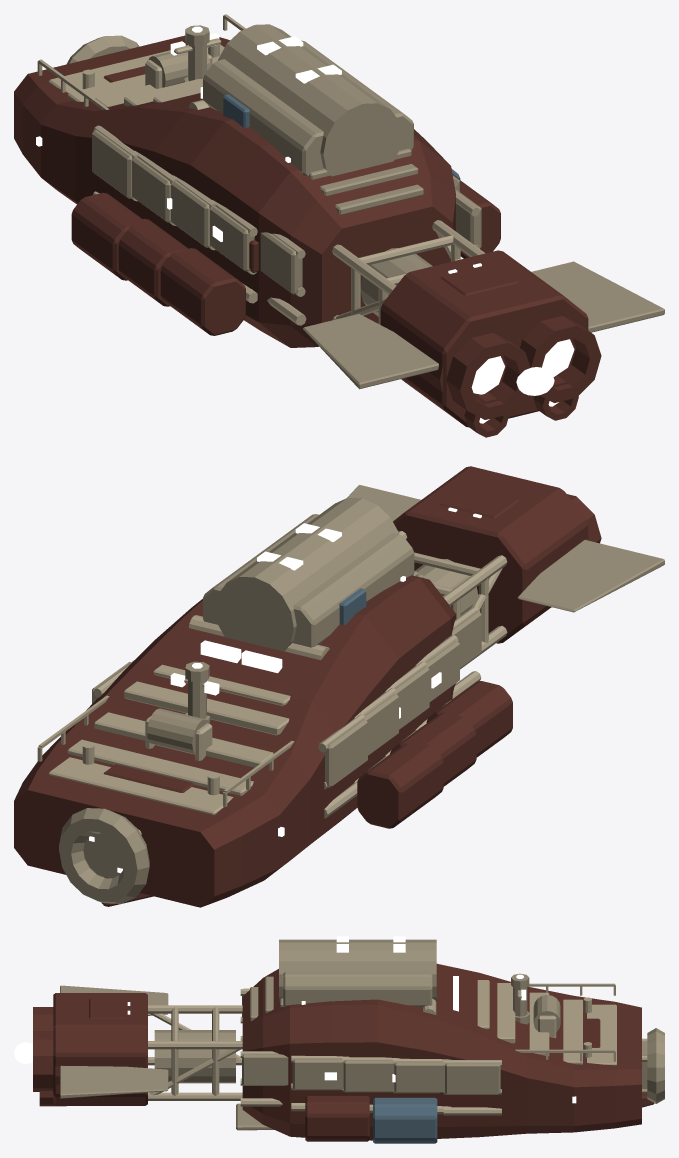
The picture shows the model from 3 angles, top to bottom: view 1: azimuth 30°, elevation 25°; view 2: azimuth 150°, elevation 25°; view 3: azimuth 270°, elevation 25°; orthographic projection. The views are drawn at different scales.
Parts seen in each view (by area): view 1: RIMWARD_HULL, RIMWARD_EMISSIVE, RIMWARD_ENGINE_GLOW; view 2: RIMWARD_HULL, RIMWARD_EMISSIVE; view 3: RIMWARD_HULL, RIMWARD_EMISSIVE, RIMWARD_ENGINE_GLOW.
Boxes of the visible parts, x1,y1,x2,y2 form: RIMWARD_HULL: (14,14,664,437); RIMWARD_EMISSIVE: (36,26,574,423); RIMWARD_ENGINE_GLOW: (516,367,554,395); RIMWARD_HULL: (14,466,664,907); RIMWARD_EMISSIVE: (89,507,481,873); RIMWARD_HULL: (33,939,664,1143); RIMWARD_EMISSIVE: (127,936,576,1103); RIMWARD_ENGINE_GLOW: (14,1042,32,1063).
Bounding box in the file's own units: 4.51 × 3.17 × 10.58.
